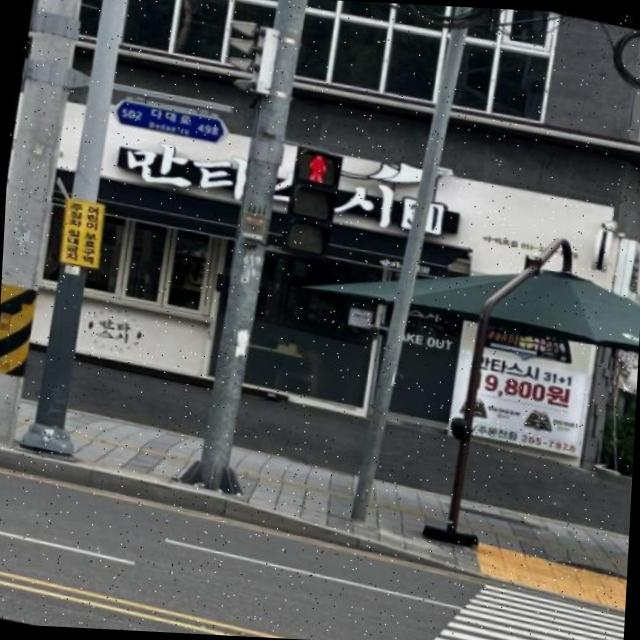red_light: (297, 140, 341, 182)
